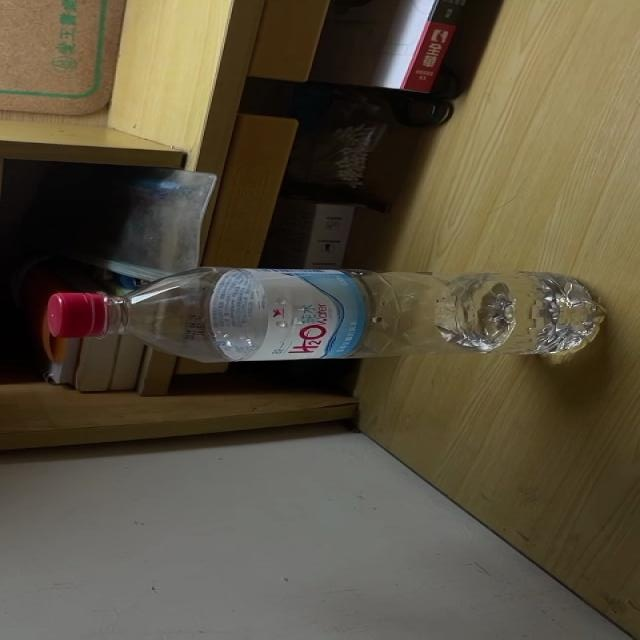Water: (46, 270, 604, 364)
